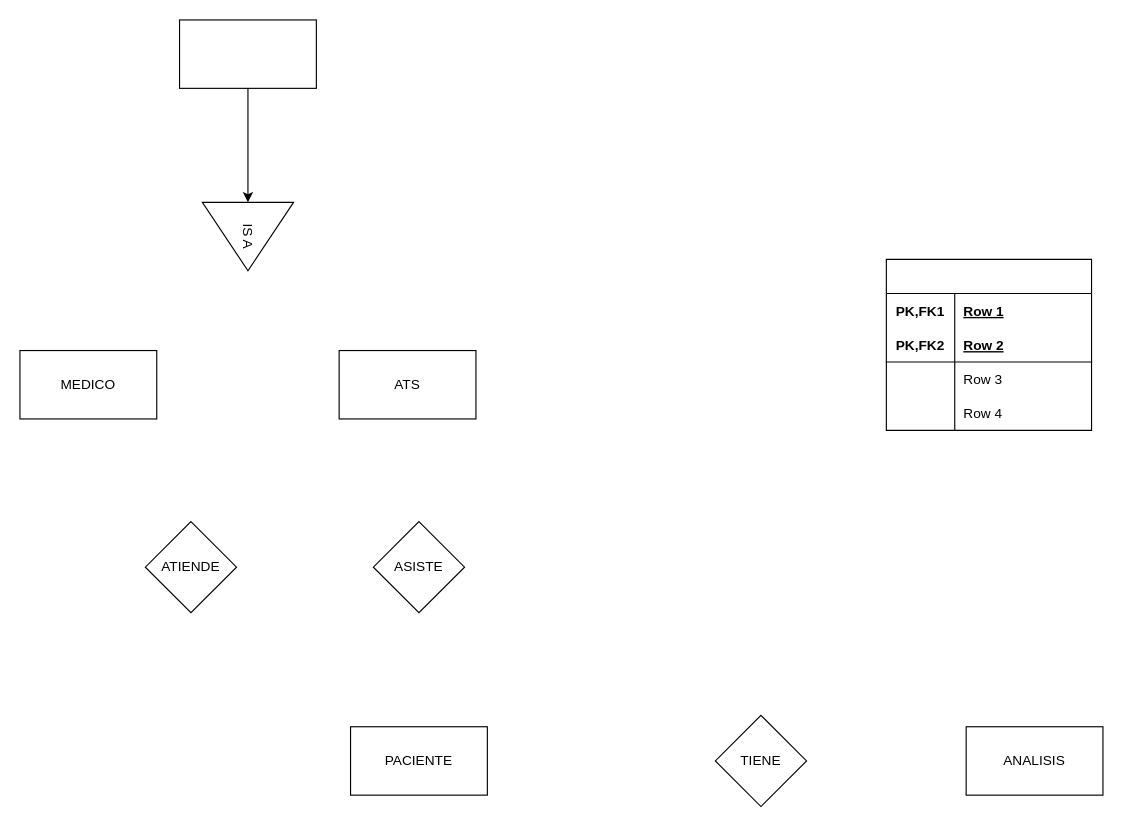
The diagram is 1123 pixels wide and 827 high, and some of its shapes have lost their labels. The shapes that lost their labels are listed below. From the top down, each one's box as (x1, y1, x2, y2) in pixels, then its label:
(178, 19, 316, 88): EMPLEADO
(885, 258, 1092, 430): Table
